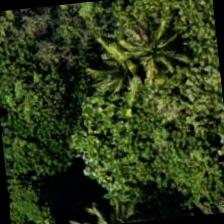Kelapa_Sawit: (68, 30, 167, 128), (104, 0, 204, 96)
